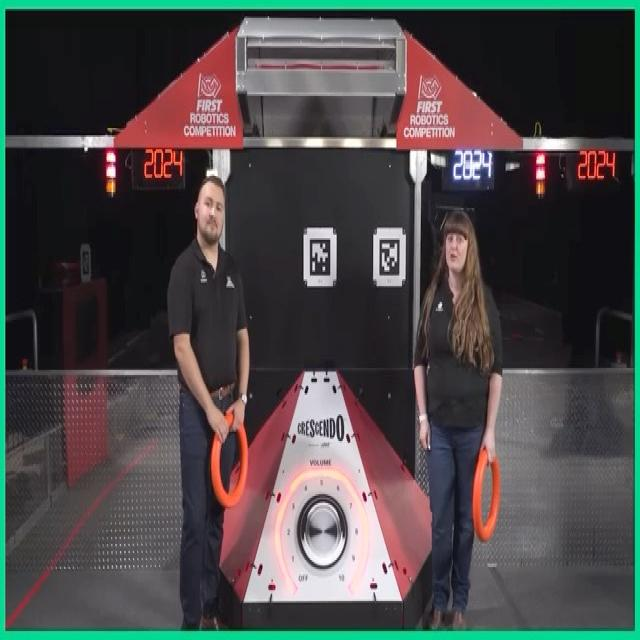note: (209, 403, 250, 510), (471, 448, 503, 543)
